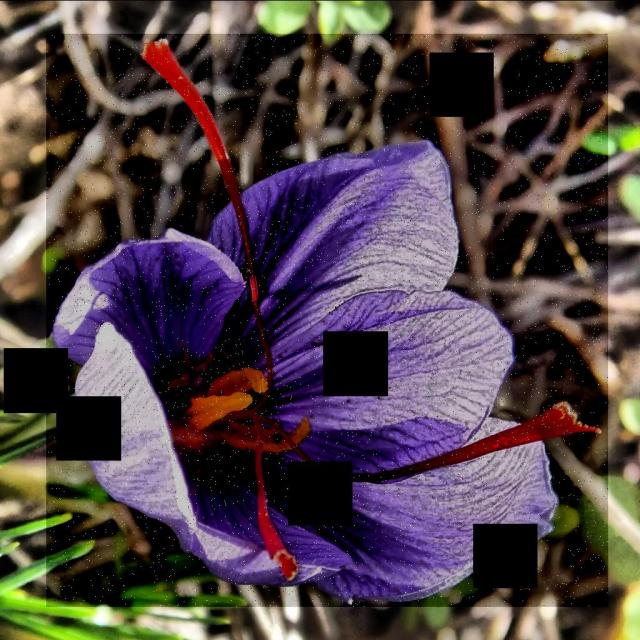Flower: (46, 33, 608, 606)
stigma: (136, 33, 273, 354), (368, 398, 605, 487), (249, 419, 308, 588)
